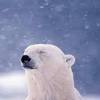PolarBear: (13, 39, 90, 100)
